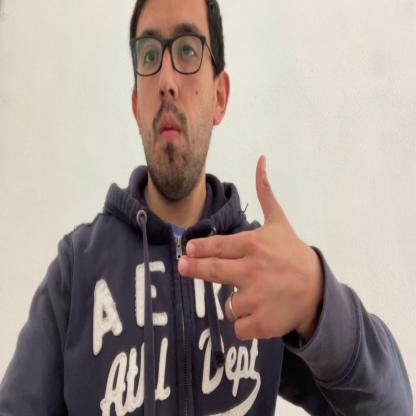H: (178, 152, 310, 340)
